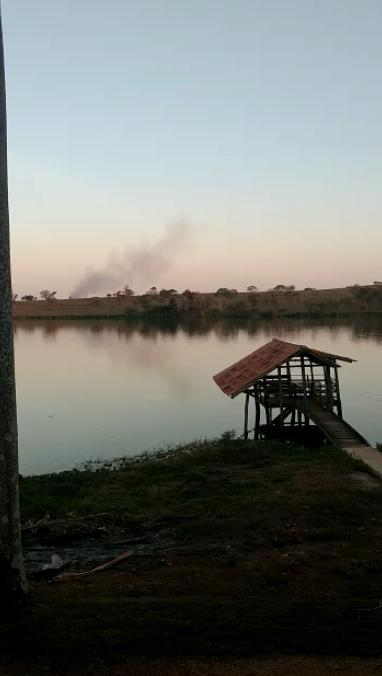smoke: (85, 257, 167, 293)
